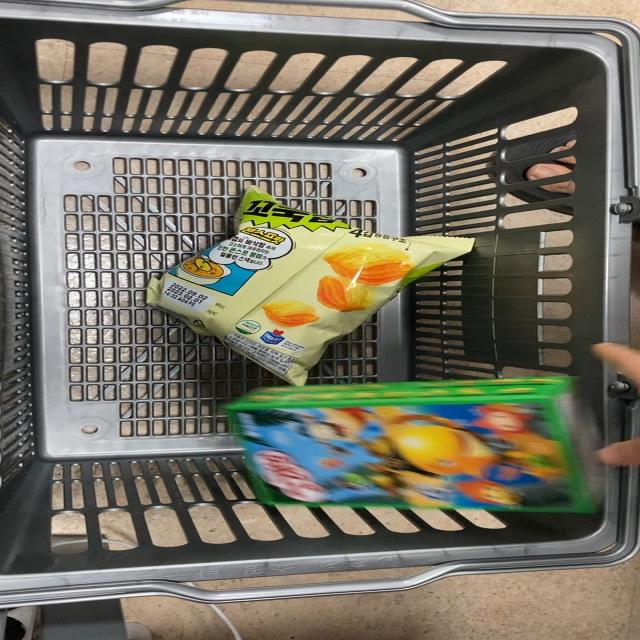ggobukchip: (193, 376, 640, 524), (134, 179, 463, 377)
